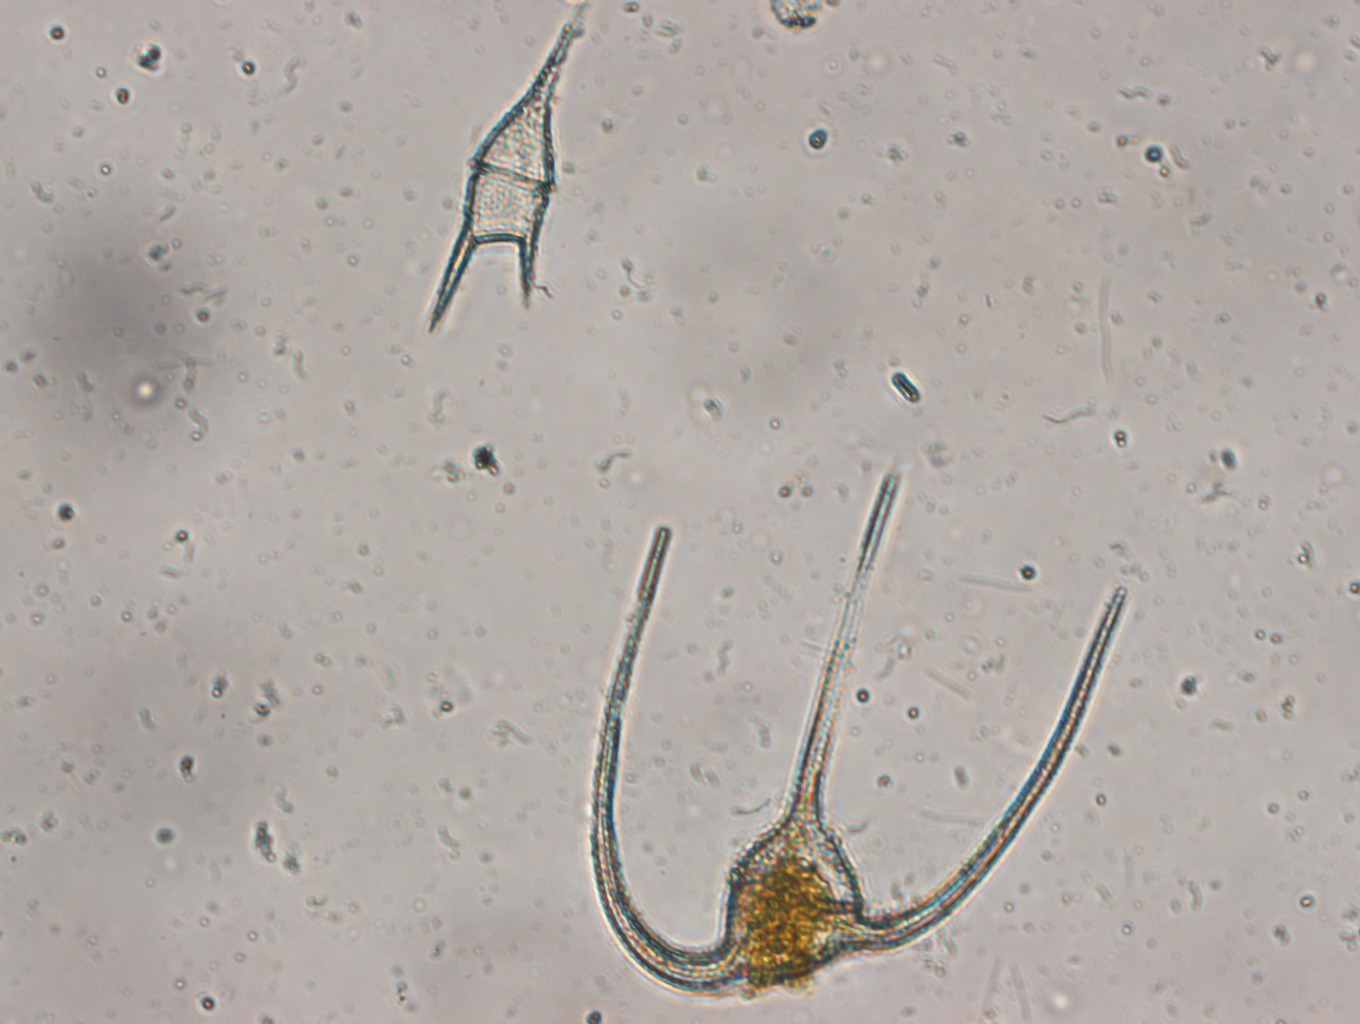ceratium furca: (420, 10, 583, 339)
ceratium trichoceros: (579, 460, 1136, 1002)
